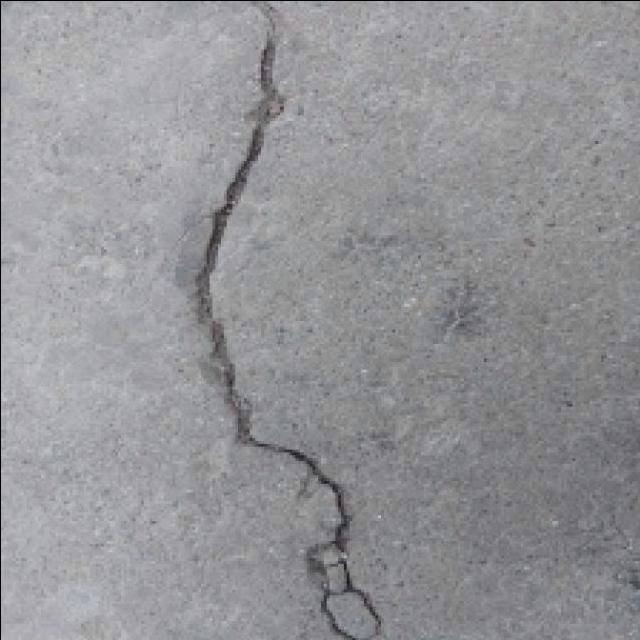SurfaceCrack: (166, 16, 382, 640)
